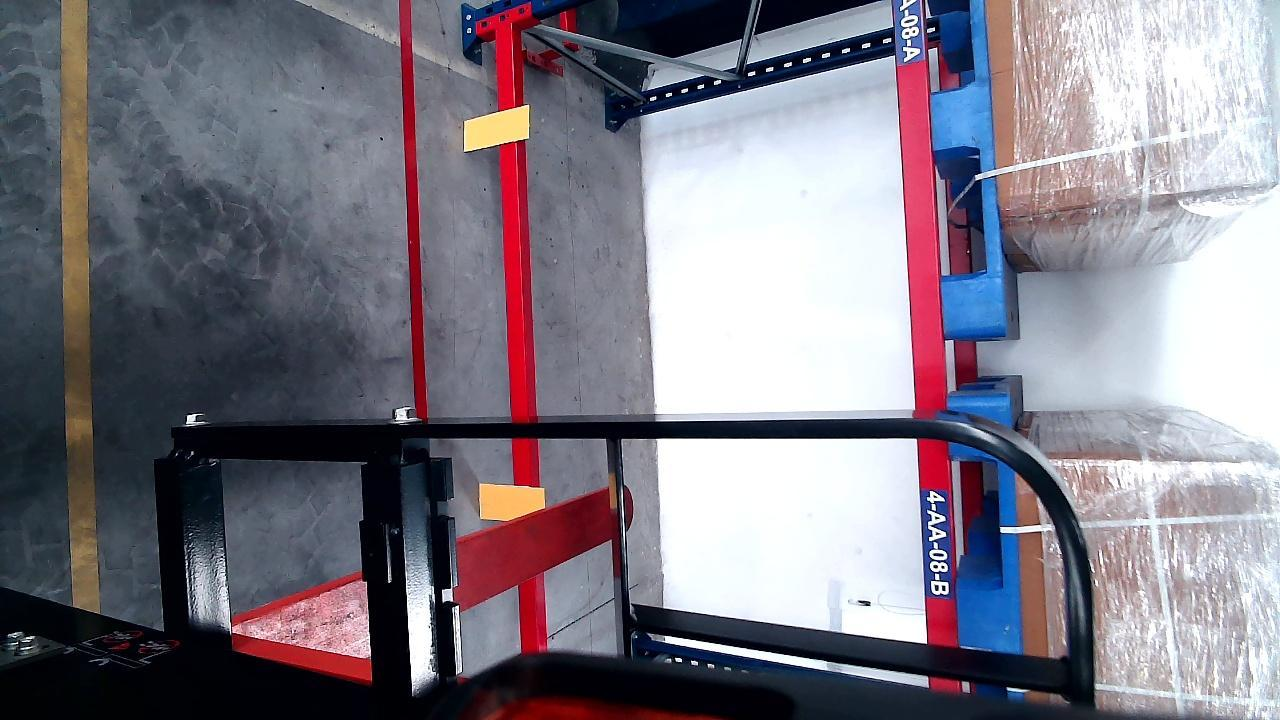red_line: (398, 0, 431, 424)
yellow_line: (59, 0, 99, 615)
